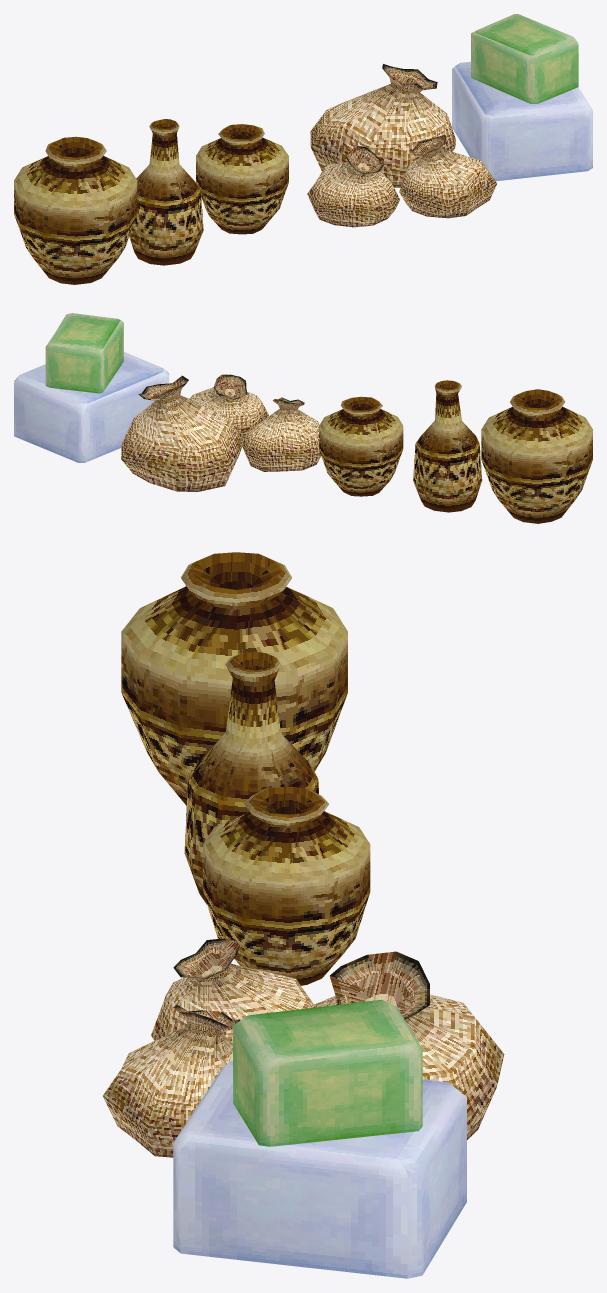
The model's file is a_groc_3.glb.
3 views of the same model, one above another, from view 1: azimuth 30°, elevation 25°; view 2: azimuth 150°, elevation 25°; view 3: azimuth 270°, elevation 25° (orthographic). The views are drawn at different scales.
Visible parts, largest first — view 1: a_groc_3; view 2: a_groc_3; view 3: a_groc_3.
Boxes of the visible parts, box(x1,y1,x2,y2) form: a_groc_3: box(14, 14, 592, 284); a_groc_3: box(14, 313, 592, 523); a_groc_3: box(103, 552, 504, 1278).
Size of the model in its own units: 329 by 71 by 108.
4 materials, 4 textured.
